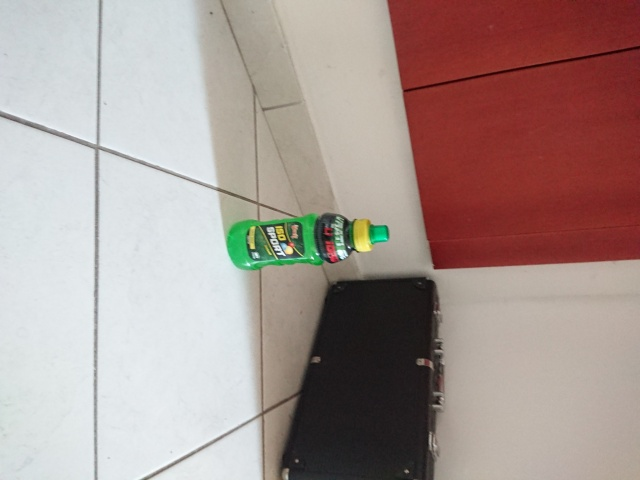Vindi Iso Sport Lemon-Grapefruit 500mL: (223, 210, 392, 273)
